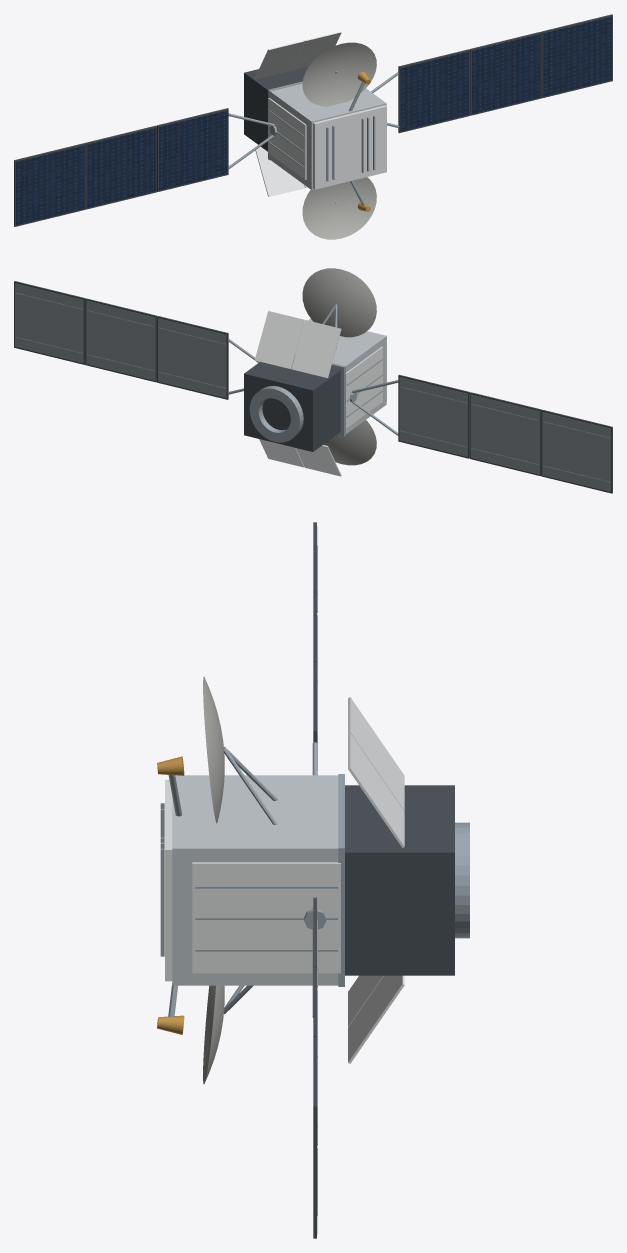
Rendered from ref-ls-1300ll-40107.glb.
The picture shows the model from 3 angles, top to bottom: view 1: azimuth 30°, elevation 25°; view 2: azimuth 150°, elevation 25°; view 3: azimuth 270°, elevation 25°; orthographic projection. The views are drawn at different scales.
Parts seen in each view (by area): view 1: Solar cell panel (×6), Communications reflector (×2), Earth-facing deck, Solar panel frame (×6), Deployed radiator leaf (×3), Payload module, Service module, Radiator face; view 2: Rear array substrate (×6), Service module, Deployed radiator leaf (×4), Communications reflector (×2), Solar panel frame (×6), Radiator face, Payload module, Launch adapter ring, Module interface; view 3: Service module, Payload module, Radiator face, Deployed radiator leaf (×3), Communications reflector (×2), Launch adapter ring, Earth-facing deck, Module interface.
Boxes of the visible parts, x1,y1,x2,y2 form: Solar cell panel (×6): (16, 16, 611, 225); Communications reflector (×2): (302, 42, 376, 239); Earth-facing deck: (313, 105, 386, 189); Solar panel frame (×6): (14, 14, 612, 226); Deployed radiator leaf (×3): (254, 31, 341, 196); Payload module: (270, 83, 386, 189); Service module: (244, 66, 308, 151); Radiator face: (268, 98, 306, 179); Rear array substrate (×6): (15, 283, 610, 491); Service module: (244, 360, 340, 451); Deployed radiator leaf (×4): (255, 311, 341, 476); Communications reflector (×2): (302, 268, 376, 465); Solar panel frame (×6): (14, 281, 612, 493); Radiator face: (345, 346, 382, 428); Payload module: (296, 318, 386, 433); Launch adapter ring: (249, 386, 303, 442); Module interface: (294, 354, 345, 436); Service module: (345, 785, 454, 975); Payload module: (172, 775, 338, 985); Radiator face: (192, 862, 340, 973); Deployed radiator leaf (×3): (348, 697, 404, 1063); Communications reflector (×2): (203, 676, 224, 1084); Launch adapter ring: (455, 822, 469, 938); Earth-facing deck: (165, 779, 172, 981); Module interface: (338, 774, 344, 986).
Size of the model in its own units: 24.67 by 7.68 by 5.59.
8 materials, 1 textured.
